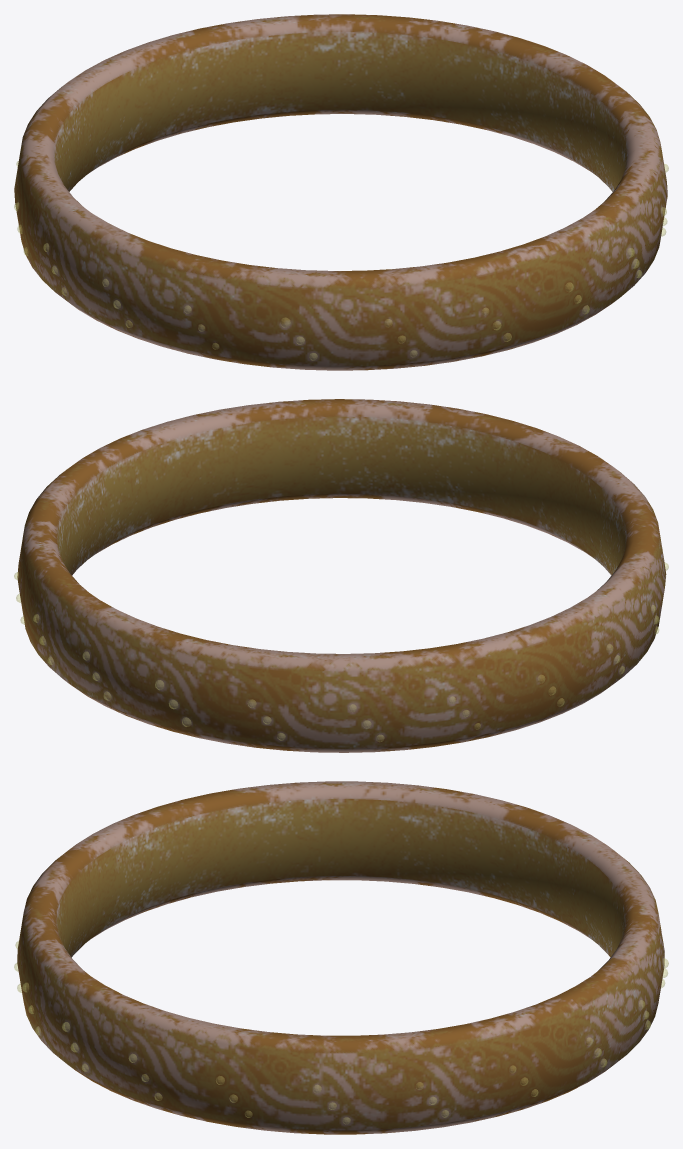
Rendered from ring (4).glb.
The picture shows the model from 3 angles, top to bottom: view 1: azimuth 30°, elevation 25°; view 2: azimuth 150°, elevation 25°; view 3: azimuth 270°, elevation 25°; orthographic projection.
Parts seen in each view (by area): view 1: Icosphere.017; view 2: Icosphere.017; view 3: Icosphere.017.
Part boxes in pixels (x1=…): Icosphere.017: x1=14, y1=14, x2=668, y2=370; Icosphere.017: x1=14, y1=399, x2=668, y2=752; Icosphere.017: x1=14, y1=781, x2=668, y2=1134.
Bounding box in the file's own units: 0.1988 × 0.031 × 0.1996.
Materials: 2 (1 with a texture image).
